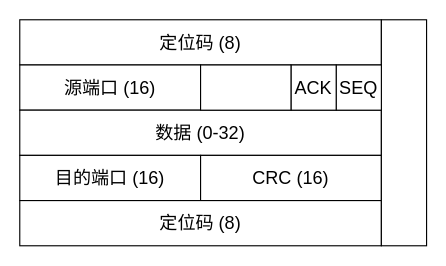
Image size: 446x266. Some labels were removed from this diagram. Each missing label, with the box of its shape:
会话 (2): (199, 64, 291, 110)
冗 余: (380, 19, 427, 246)
